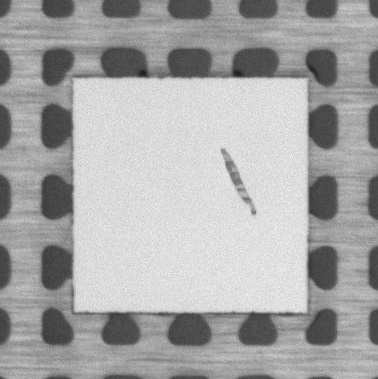DIE_INK: (217, 144, 255, 216)
